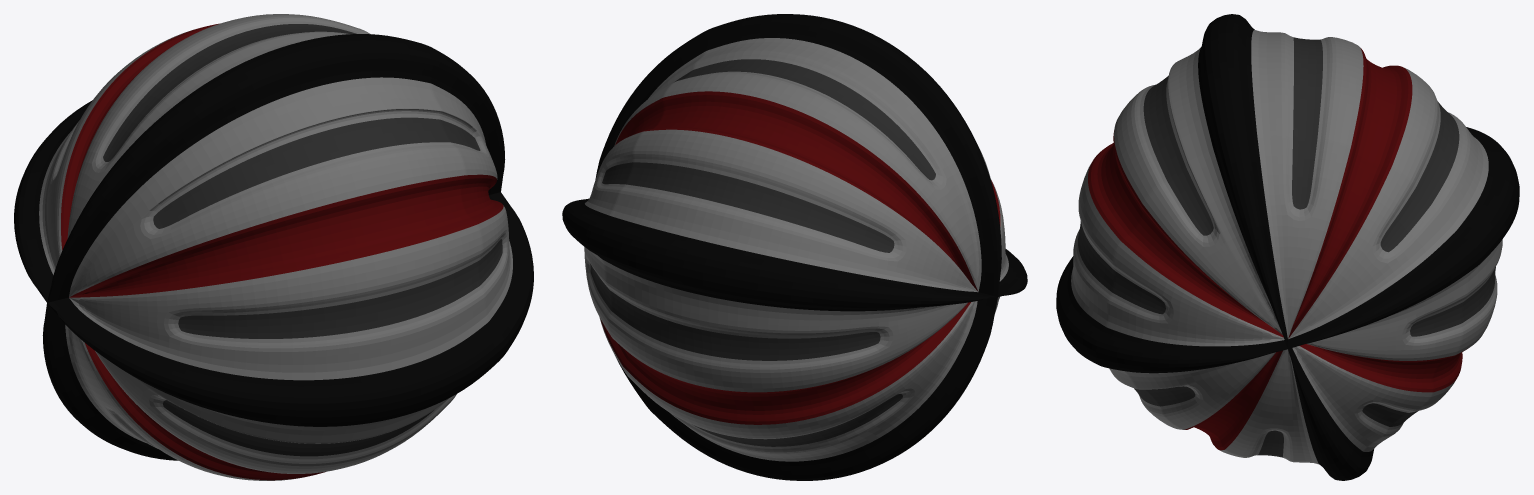
3 renders of one model, left to right at view 1: azimuth 30°, elevation 25°; view 2: azimuth 150°, elevation 25°; view 3: azimuth 270°, elevation 25°, orthographic. The views are drawn at different scales.
Visible parts, largest first — view 1: Sphere; view 2: Sphere; view 3: Sphere.
Part boxes in pixels (left/top/right/bottom): Sphere: left=14, top=14, right=533, bottom=480; Sphere: left=562, top=14, right=1027, bottom=480; Sphere: left=1056, top=14, right=1519, bottom=480.
Size of the model in its own units: 221 by 213 by 213.
